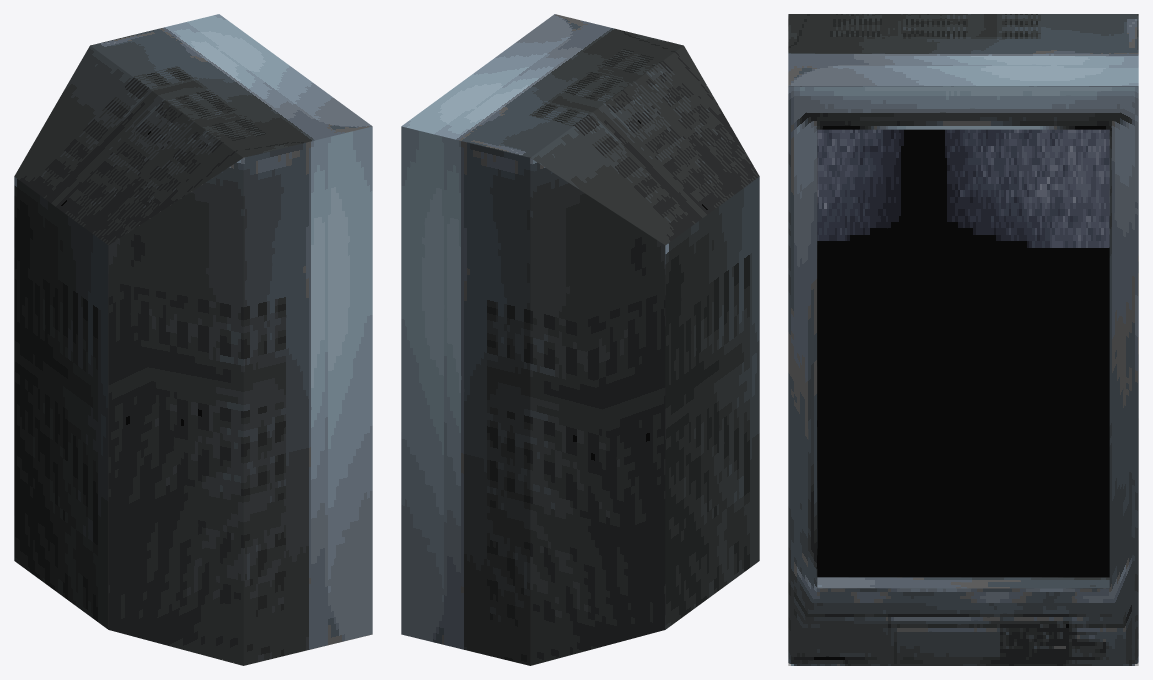
The picture shows the model from 3 angles, left to right: view 1: azimuth 30°, elevation 25°; view 2: azimuth 150°, elevation 25°; view 3: azimuth 270°, elevation 25°; orthographic projection. The views are drawn at different scales.
Parts seen in each view (by area): view 1: tv high; view 2: tv high; view 3: tv high.
Part boxes in pixels (x1,y1,x2,y2): tv high: (14, 14, 372, 665); tv high: (401, 14, 759, 665); tv high: (788, 14, 1138, 665).
Size of the model in its own units: 0.9385 by 1.94 by 1.06.
Materials: 2 (2 with a texture image).
